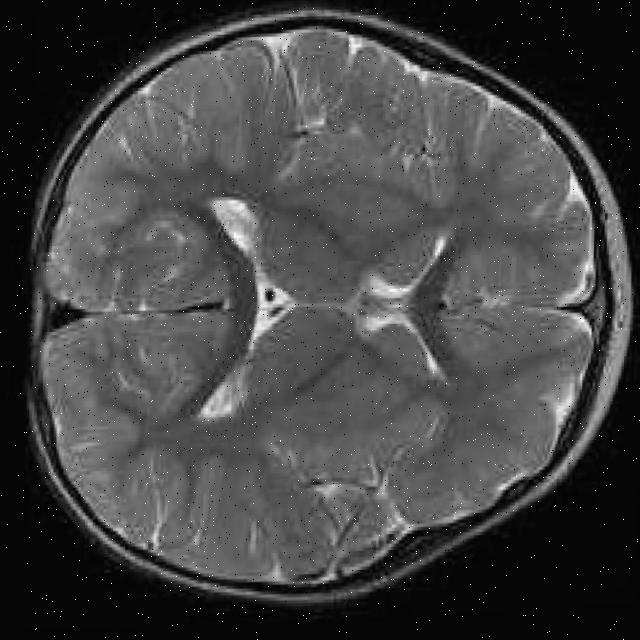NoTumor: (21, 0, 614, 616)
